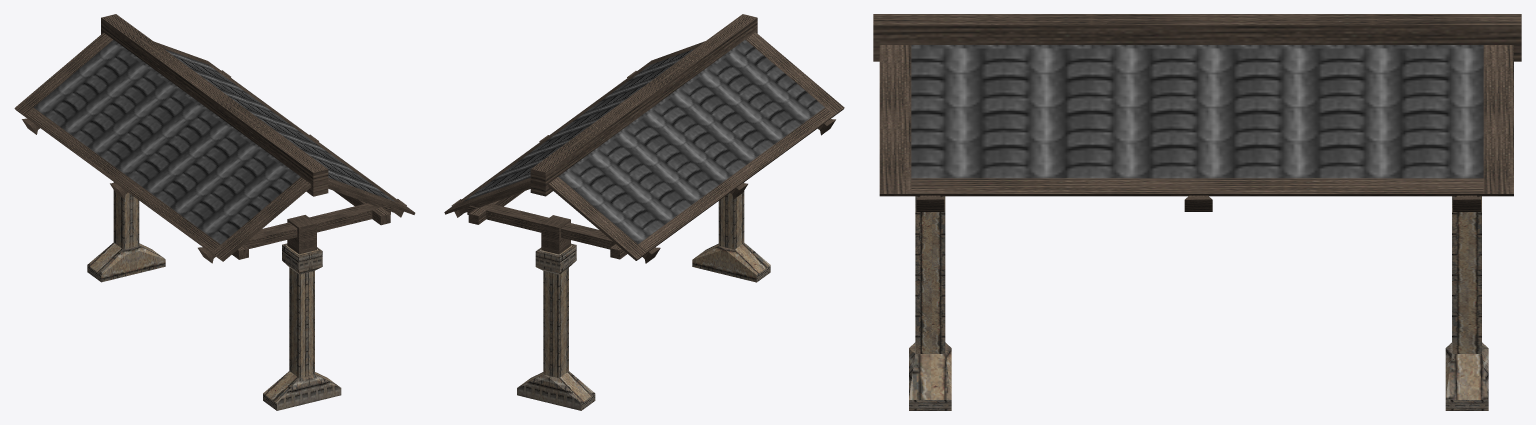
File: coberturaentrada-c.fbx
3 renders of one model, left to right at view 1: azimuth 30°, elevation 25°; view 2: azimuth 150°, elevation 25°; view 3: azimuth 270°, elevation 25°, orthographic. The views are drawn at different scales.
Parts seen in each view (by area): view 1: Cube; view 2: Cube; view 3: Cube.
Part boxes in pixels (x1,y1,x2,y2): Cube: (14, 14, 415, 410); Cube: (444, 14, 844, 410); Cube: (873, 14, 1521, 410).
Bounding box in the file's own units: 3.07 × 3.52 × 5.64.
